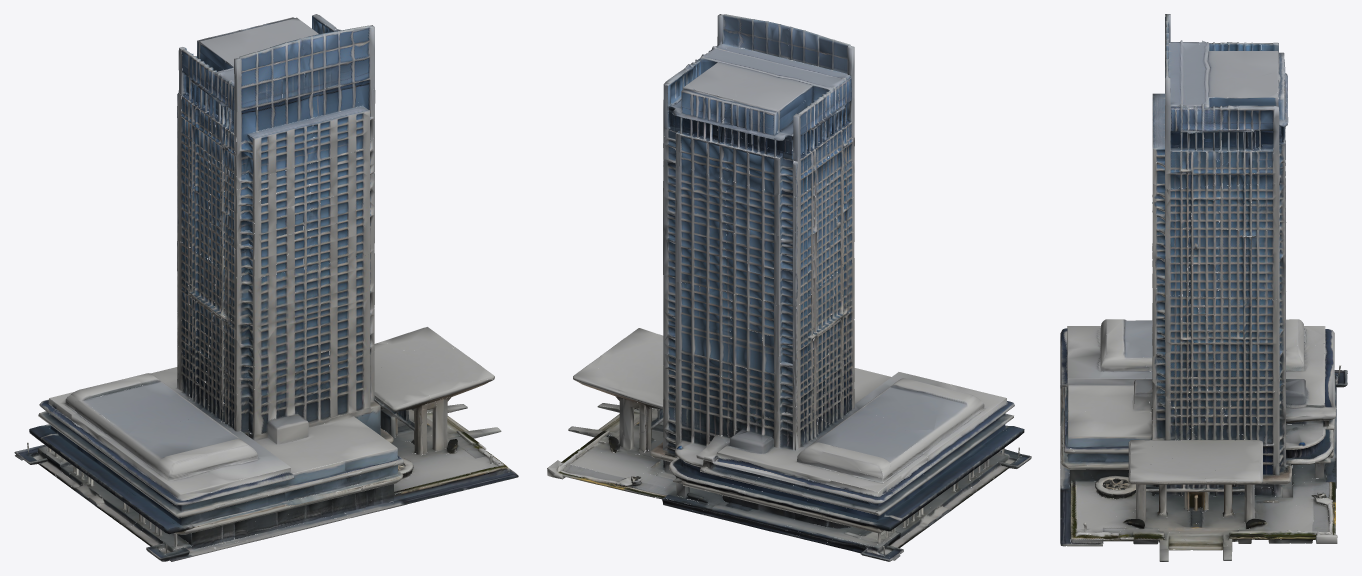
Rendered from city_hall.glb.
3 views of the same model, side by side, from view 1: azimuth 30°, elevation 25°; view 2: azimuth 150°, elevation 25°; view 3: azimuth 270°, elevation 25° (orthographic). The views are drawn at different scales.
Parts seen in each view (by area): view 1: tripo_node_d55399f4-9a16-40e2-ba5e-edf306b69139; view 2: tripo_node_d55399f4-9a16-40e2-ba5e-edf306b69139; view 3: tripo_node_d55399f4-9a16-40e2-ba5e-edf306b69139.
Boxes of the visible parts, x1,y1,x2,y2 form: tripo_node_d55399f4-9a16-40e2-ba5e-edf306b69139: (14,14,518,561); tripo_node_d55399f4-9a16-40e2-ba5e-edf306b69139: (547,14,1031,561); tripo_node_d55399f4-9a16-40e2-ba5e-edf306b69139: (1060,14,1347,561).
Size of the model in its own units: 0.9396 by 0.9998 by 0.608.
1 material, 1 textured.
